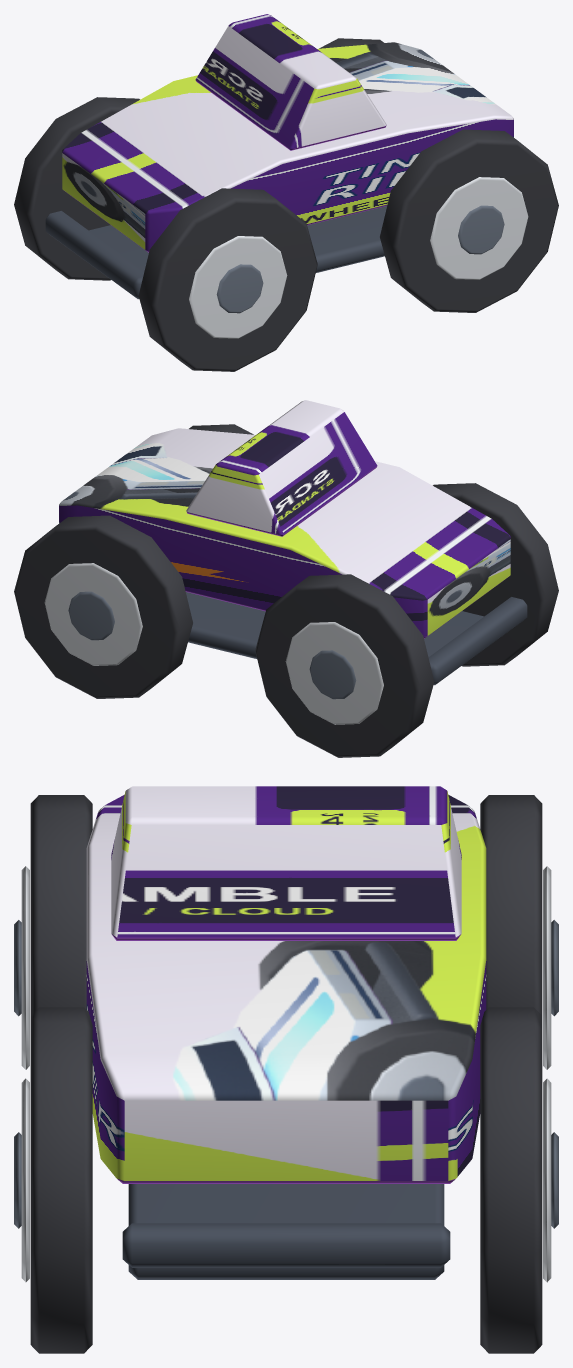
3 views of the same model, one above another, from view 1: azimuth 30°, elevation 25°; view 2: azimuth 150°, elevation 25°; view 3: azimuth 270°, elevation 25° (orthographic). The views are drawn at different scales.
Visible parts, largest first — view 1: BW-05_connected_shell, Tire, Tire.002, BW-05_cabin, Tire.001, Rim.002, Rim, underbody, front bumper, Hub, Hub.002; view 2: BW-05_connected_shell, Tire.001, Tire.003, BW-05_cabin, Tire, Rim.003, Rim.001, underbody, front bumper, Hub.001, Hub.003; view 3: BW-05_connected_shell, BW-05_cabin, Tire.002, Tire.003, underbody, rear bumper, Tire, Tire.001, Rim, Rim.001, Rim.002, Rim.003 (+4 smaller).
Part boxes in pixels (x1,y1,x2,y2): BW-05_connected_shell: (62, 42, 513, 252); Tire: (138, 188, 317, 371); Tire.002: (380, 129, 558, 312); BW-05_cabin: (195, 14, 386, 150); Tire.001: (14, 97, 139, 280); Rim.002: (430, 177, 528, 279); Rim: (189, 236, 287, 338); underbody: (89, 206, 386, 272); front bumper: (45, 211, 144, 299); Hub: (216, 264, 263, 313); Hub.002: (458, 205, 504, 254); BW-05_connected_shell: (59, 428, 510, 638); Tire.001: (255, 574, 434, 757); Tire.003: (14, 515, 192, 698); BW-05_cabin: (186, 400, 377, 536); Tire: (433, 483, 558, 666); Rim.003: (44, 563, 142, 665); Rim.001: (285, 622, 383, 724); underbody: (186, 592, 483, 658); front bumper: (428, 597, 527, 685); Hub.001: (309, 650, 356, 699); Hub.003: (68, 591, 114, 640); BW-05_connected_shell: (86, 795, 486, 1183); BW-05_cabin: (111, 786, 461, 940); Tire.002: (30, 1007, 92, 1353); Tire.003: (480, 1007, 542, 1353); underbody: (128, 1184, 444, 1279); rear bumper: (122, 1223, 450, 1267); Tire: (30, 795, 92, 1015); Tire.001: (480, 795, 542, 1015); Rim: (21, 866, 29, 1069); Rim.001: (543, 866, 551, 1069); Rim.002: (21, 1078, 29, 1282); Rim.003: (543, 1078, 551, 1282).
Bounding box in the file's own units: 357 × 202 × 229.
